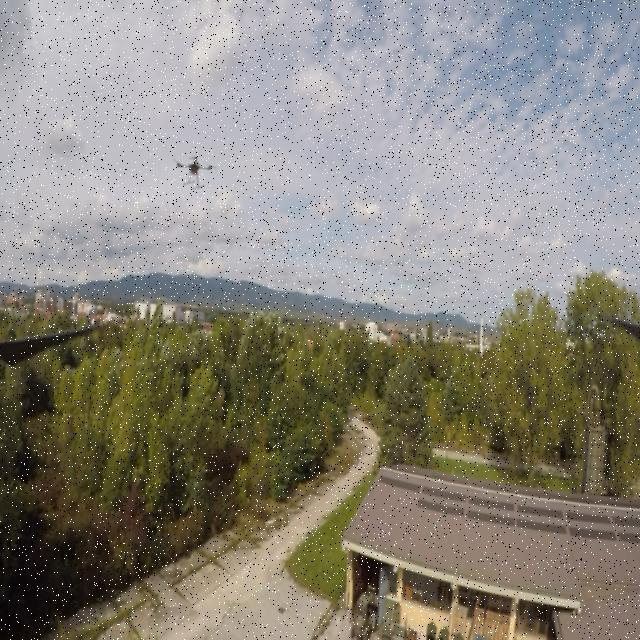UAV: (170, 148, 220, 194)
